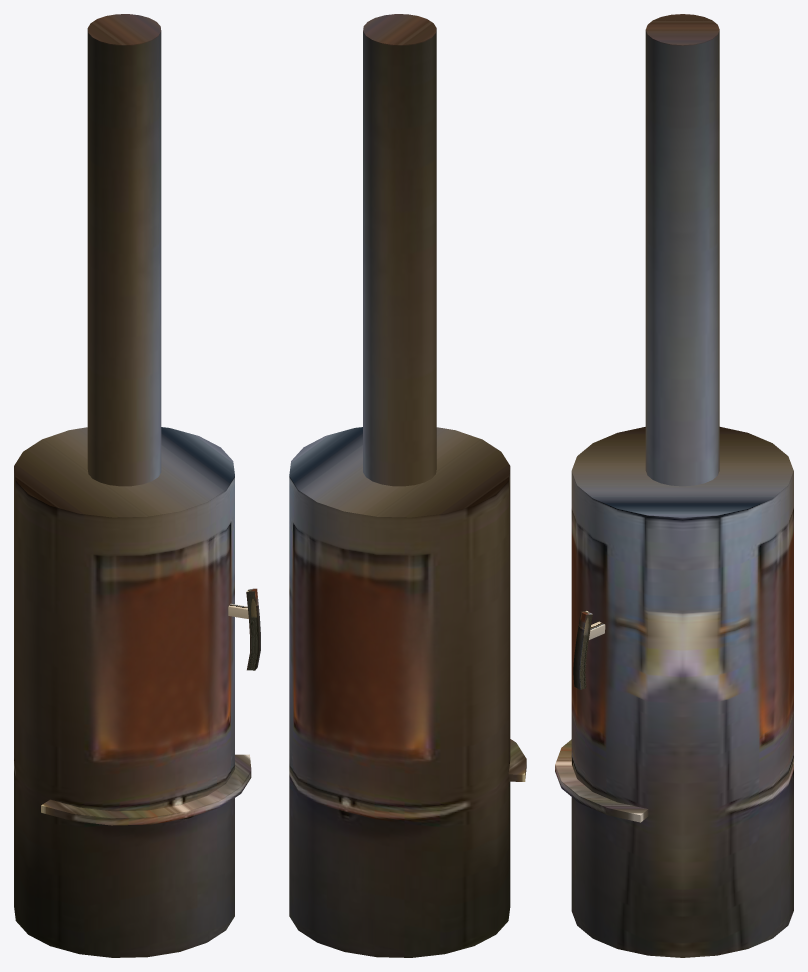
File: kachel.fbx
3 views of the same model, side by side, from view 1: azimuth 30°, elevation 25°; view 2: azimuth 150°, elevation 25°; view 3: azimuth 270°, elevation 25° (orthographic).
Visible parts, largest first — view 1: pCylinder3; view 2: pCylinder3; view 3: pCylinder3.
Boxes of the visible parts, x1,y1,x2,y2 form: pCylinder3: (14,14,260,957); pCylinder3: (289,14,526,957); pCylinder3: (555,14,793,957).
Bounding box in the file's own units: 7.83 × 31.61 × 7.76.
